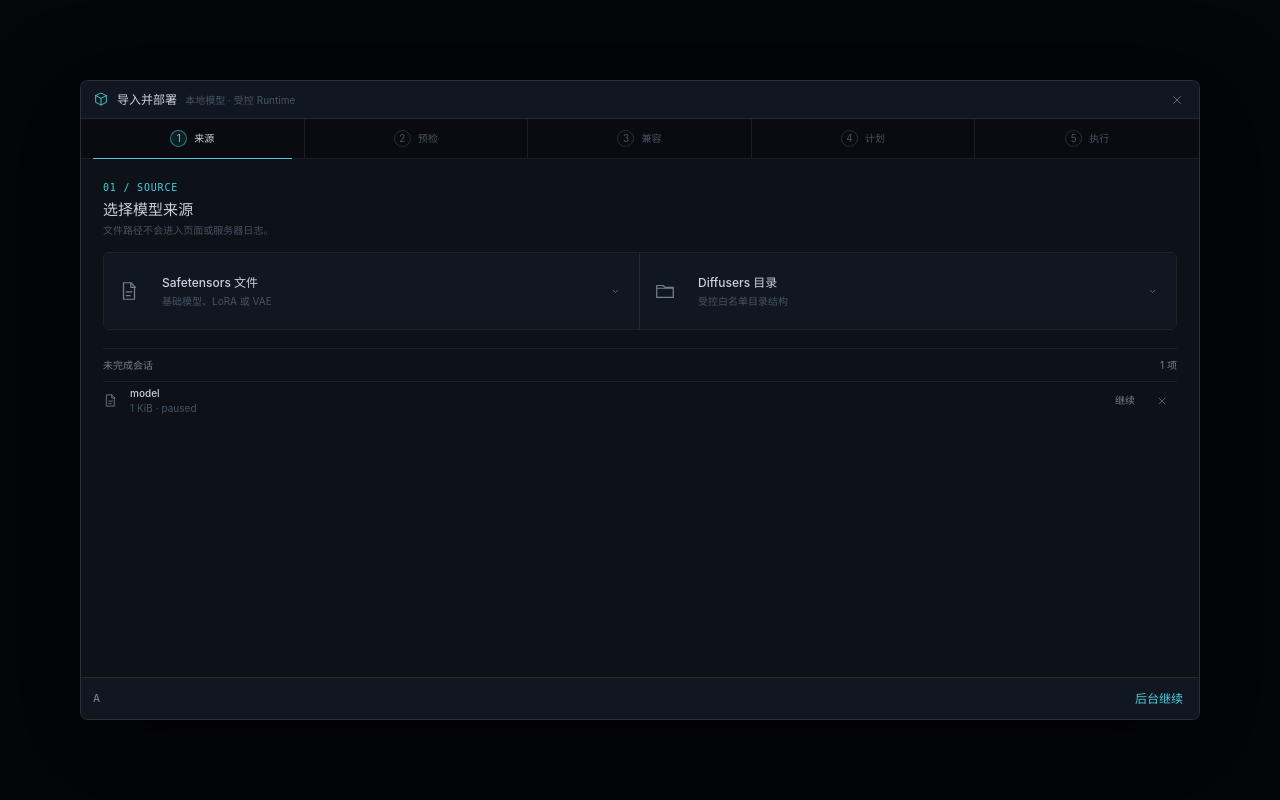
Test: ModelImportWizard resume › rejects invalid bound metadata {"id":"wrong"}
Click the button "继续".
click(1125, 401)  # box left=1108, top=387, right=1142, bottom=414
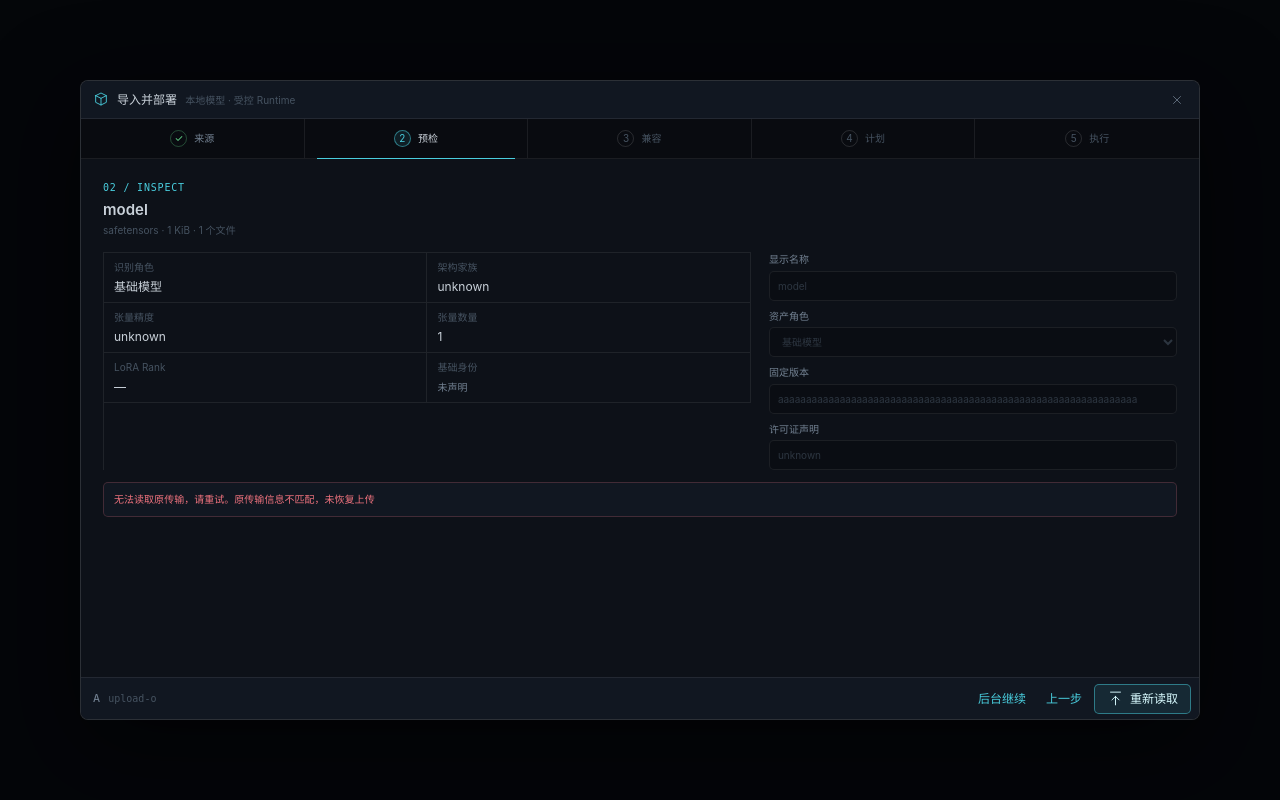
Check: the message "无法读取原传输，请重试。原传输信息不匹配，未恢复上传" is shown, box left=103, top=482, right=1177, bottom=517
